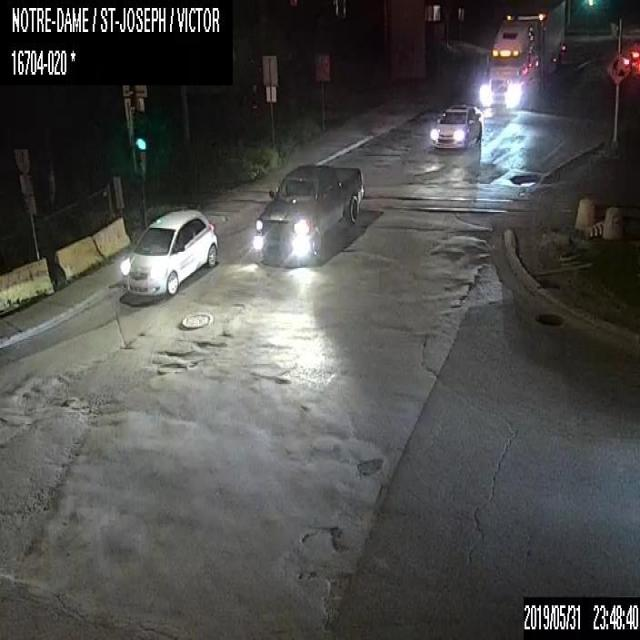construction: (605, 53, 630, 85), (586, 221, 604, 236)
vehicle: (252, 162, 362, 259), (484, 0, 564, 108), (123, 210, 217, 300), (430, 104, 482, 150), (621, 46, 639, 70)
